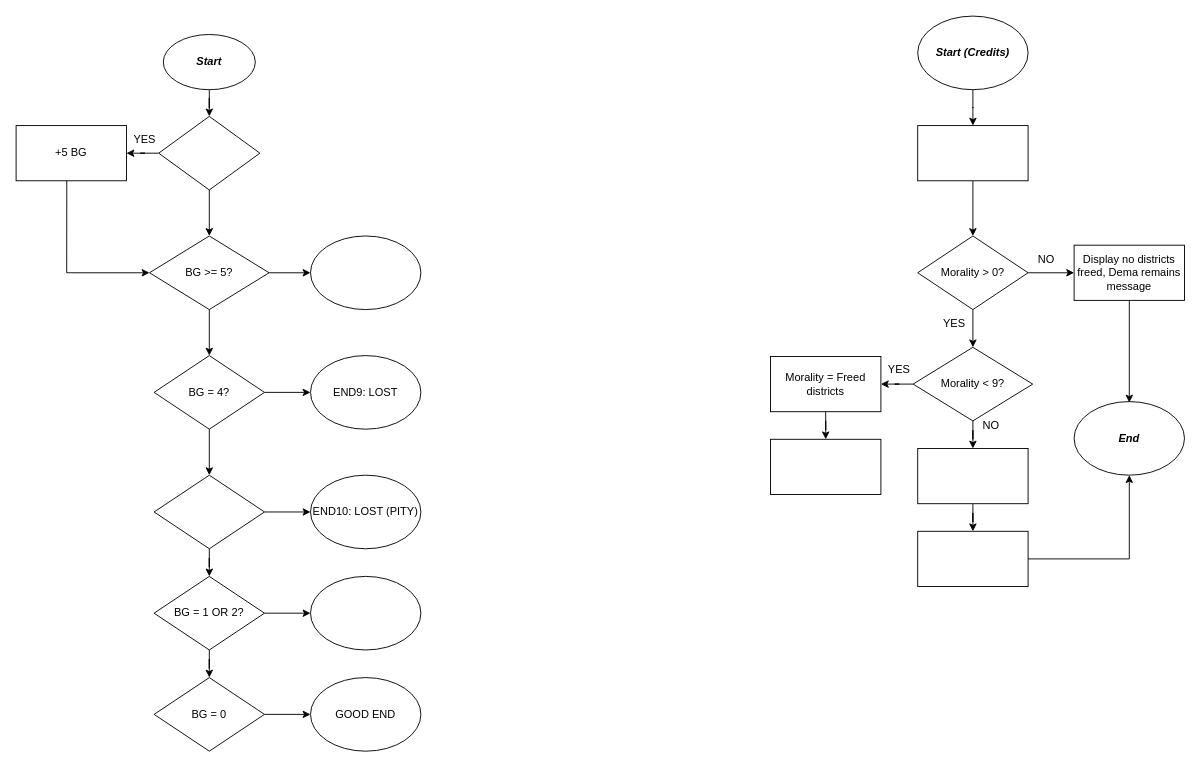
The diagram is 1201 pixels wide and 767 high, and some of its shapes have lost their labels. The centre of each missing label's shape, as x and y in pixels:
BAD ENDING: [365,272]
BG = 3?: [208,511]
Display all districts freed message: [972,558]
Display number of districts freed message: [825,466]
Freed districts = 9: [972,476]
Morality = YBC - BG: [972,153]
Take Nico's cloak?: [209,152]
TRUE END: [365,612]
